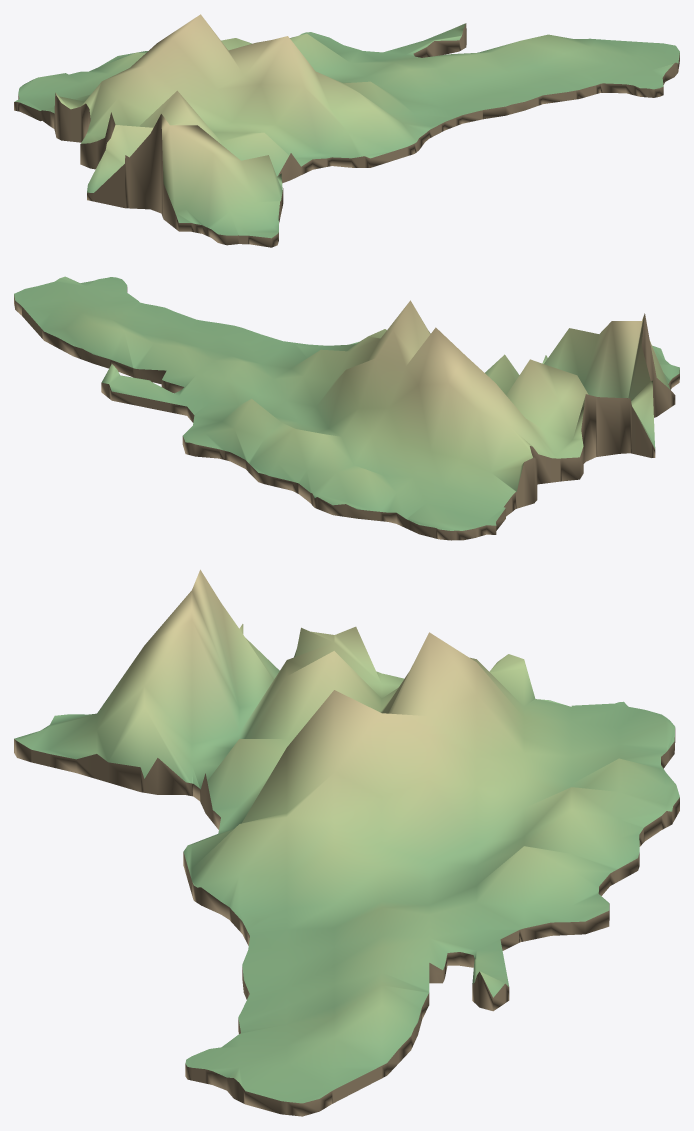
The model's file is DOM.glb.
3 views of the same model, one above another, from view 1: azimuth 30°, elevation 25°; view 2: azimuth 150°, elevation 25°; view 3: azimuth 270°, elevation 25° (orthographic). The views are drawn at different scales.
Parts seen in each view (by area): view 1: DOM; view 2: DOM; view 3: DOM.
Part boxes in pixels (x1=…): DOM: x1=14, y1=14, x2=679, y2=247; DOM: x1=14, y1=276, x2=679, y2=540; DOM: x1=14, y1=569, x2=679, y2=1116.
Size of the model in its own units: 1.82 by 0.338 by 1.2.
